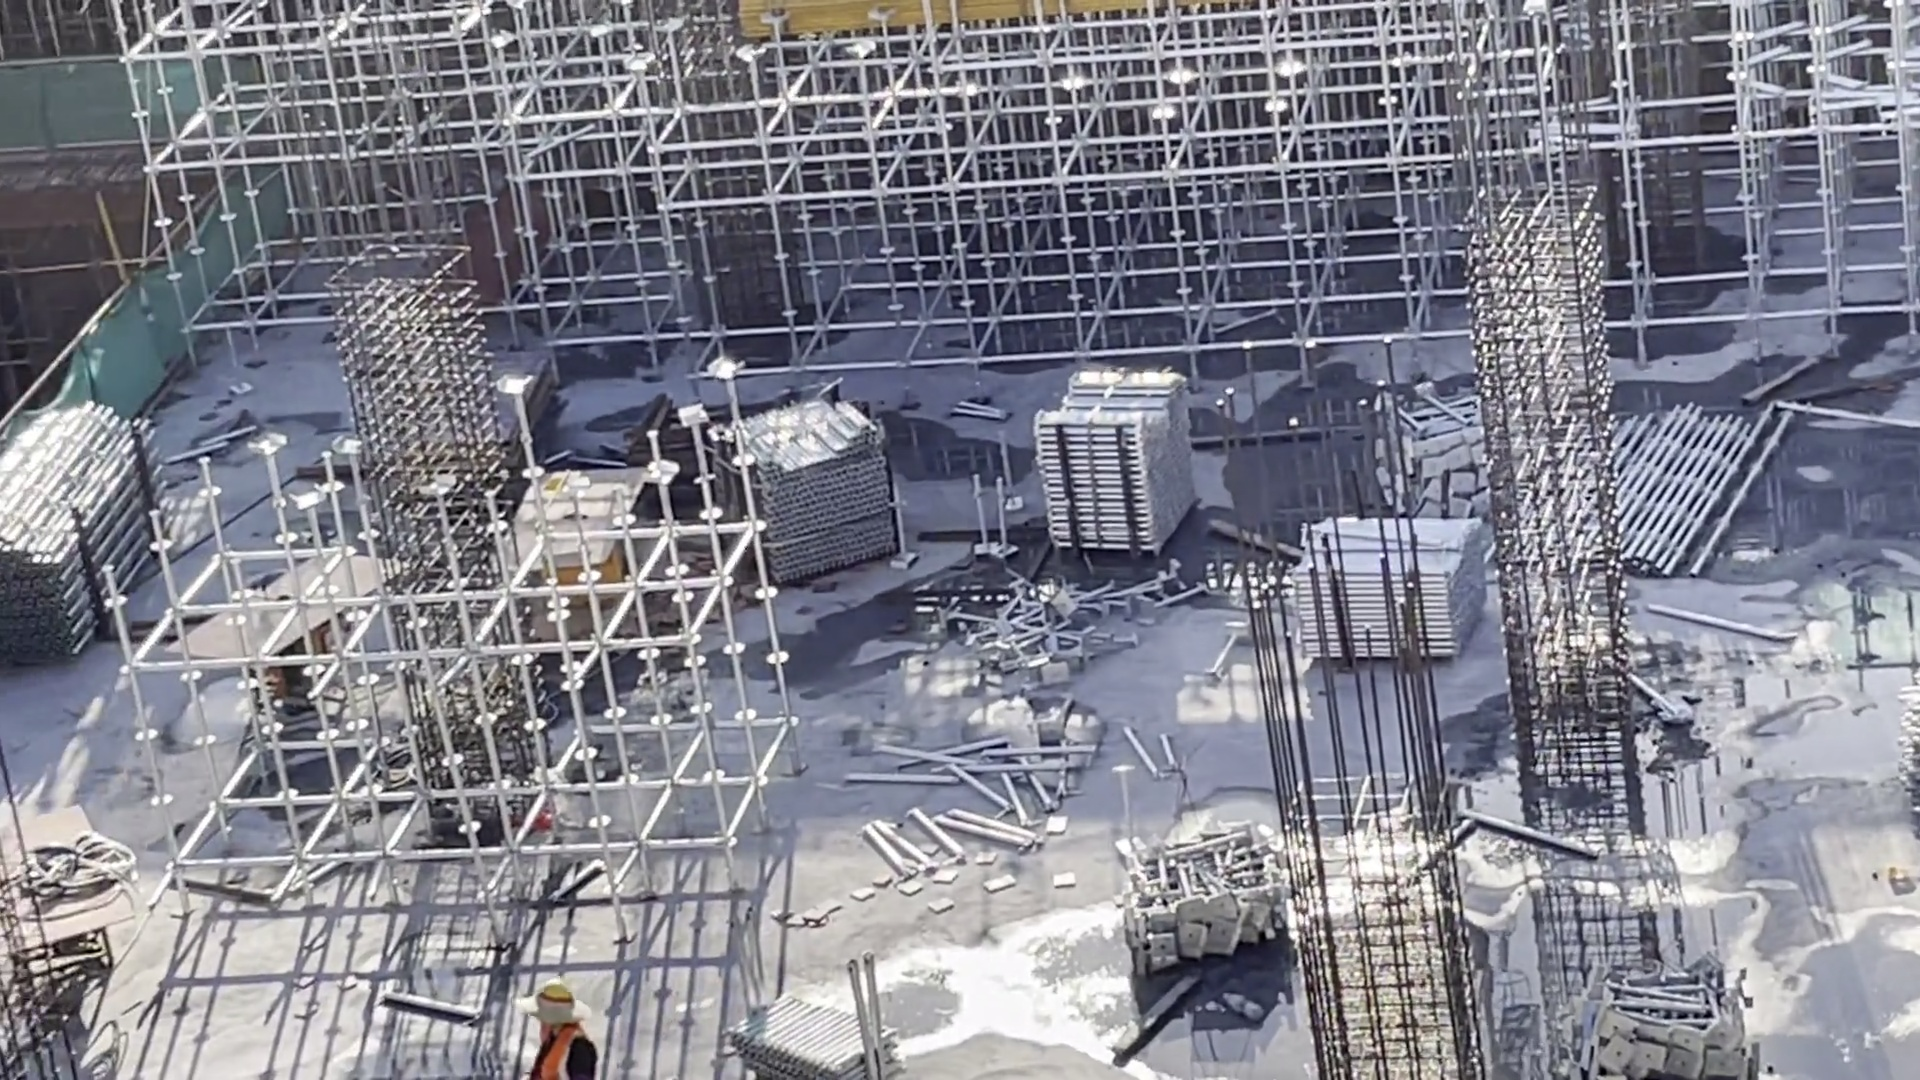helmet: (525, 979, 586, 1018)
person: (500, 984, 605, 1080)
scaffold: (1588, 387, 1795, 583), (717, 391, 906, 575), (1024, 364, 1200, 560), (1290, 511, 1496, 662)
vest: (516, 1028, 590, 1074)
